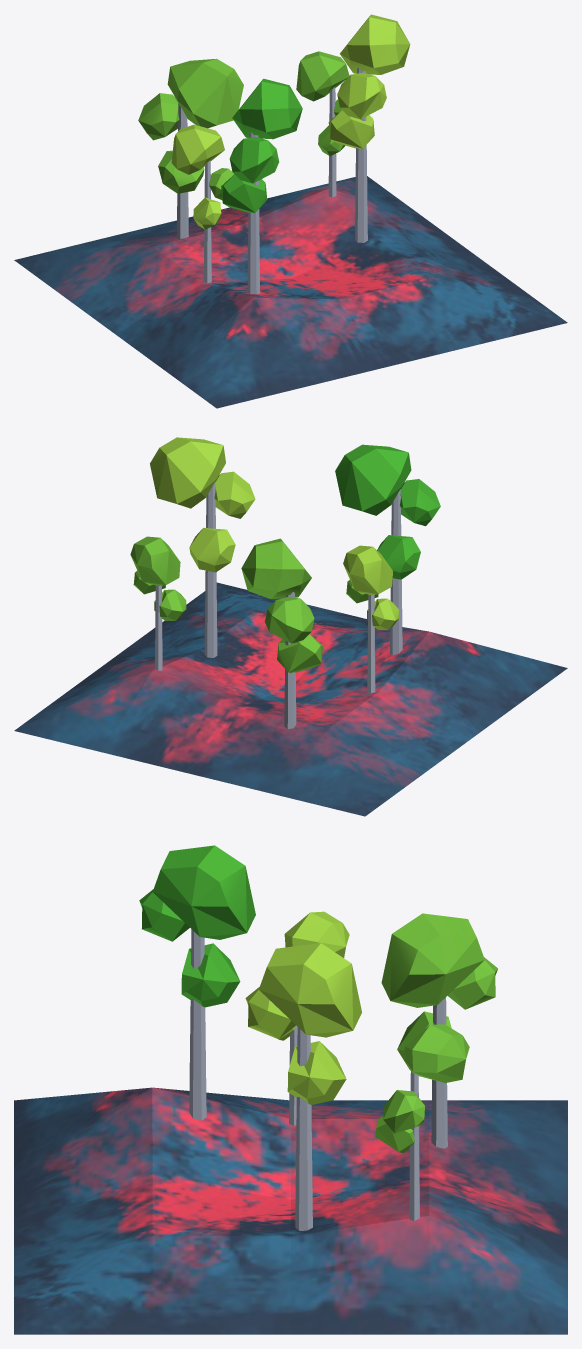
File: tree05.FBX
The picture shows the model from 3 angles, top to bottom: view 1: azimuth 30°, elevation 25°; view 2: azimuth 150°, elevation 25°; view 3: azimuth 270°, elevation 25°; orthographic projection. The views are drawn at different scales.
Parts seen in each view (by area): view 1: Tree05; view 2: Tree05; view 3: Tree05.
Part boxes in pixels (<box>): Tree05: <box>14,14,567,408</box>; Tree05: <box>14,437,567,816</box>; Tree05: <box>14,845,567,1334</box>.
Size of the model in its own units: 1 by 1 by 0.6978.
1 material, 1 textured.
